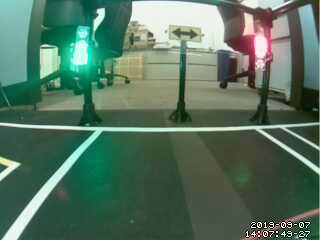Left_Right_sign: (169, 25, 203, 42)
Traffic_light_green: (76, 29, 87, 66)
Traffic_light_red: (251, 34, 266, 67)
